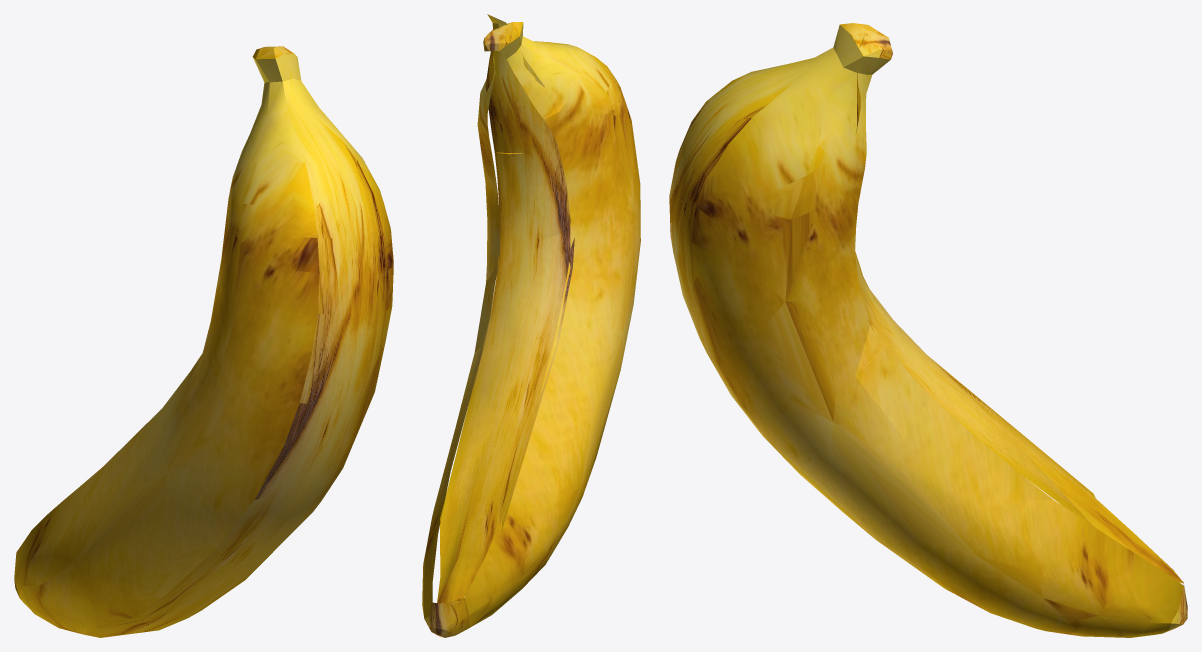
The model's file is banana_variant.gltf.
The picture shows the model from 3 angles, left to right: view 1: azimuth 30°, elevation 25°; view 2: azimuth 150°, elevation 25°; view 3: azimuth 270°, elevation 25°; orthographic projection. The views are drawn at different scales.
Visible parts, largest first — view 1: Banana; view 2: Banana; view 3: Banana.
Boxes of the visible parts, left/top/right/bottom form: Banana: left=14, top=46, right=393, bottom=637; Banana: left=422, top=14, right=640, bottom=637; Banana: left=669, top=23, right=1187, bottom=637.
Size of the model in its own units: 0.0465 by 0.1406 by 0.1005.
Materials: 1 (1 with a texture image).
